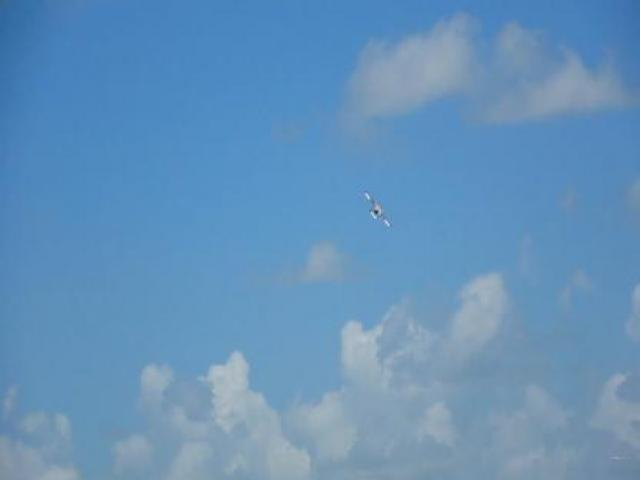uav: (363, 186, 392, 231)
